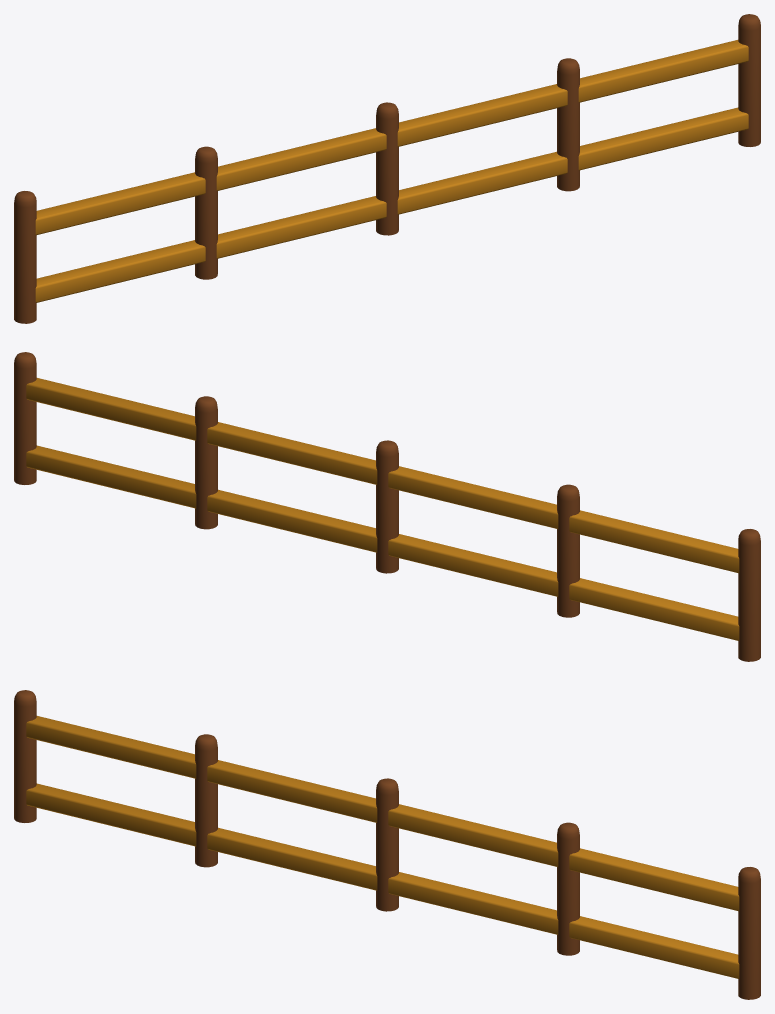
The model's file is HorseRaceWood.fbx.
The picture shows the model from 3 angles, top to bottom: view 1: azimuth 30°, elevation 25°; view 2: azimuth 150°, elevation 25°; view 3: azimuth 330°, elevation 25°; orthographic projection.
Parts seen in each view (by area): view 1: Cube.001, Cube, Cylinder, Cylinder.004, Cylinder.001, Cylinder.002, Cylinder.003; view 2: Cube.001, Cube, Cylinder, Cylinder.004, Cylinder.001, Cylinder.002, Cylinder.003; view 3: Cube.001, Cube, Cylinder.004, Cylinder, Cylinder.003, Cylinder.002, Cylinder.001.
Boxes of the visible parts, bbox=[...] form: Cube.001: bbox=[35, 107, 748, 302]; Cube: bbox=[35, 40, 748, 235]; Cylinder: bbox=[14, 191, 36, 323]; Cylinder.004: bbox=[738, 14, 760, 146]; Cylinder.001: bbox=[195, 146, 217, 279]; Cylinder.002: bbox=[376, 102, 398, 235]; Cylinder.003: bbox=[557, 58, 579, 191]; Cube.001: bbox=[26, 445, 739, 640]; Cube: bbox=[26, 378, 739, 573]; Cylinder: bbox=[738, 529, 760, 661]; Cylinder.004: bbox=[14, 352, 36, 484]; Cylinder.001: bbox=[557, 484, 579, 617]; Cylinder.002: bbox=[376, 440, 398, 573]; Cylinder.003: bbox=[195, 396, 217, 529]; Cube.001: bbox=[26, 783, 739, 978]; Cube: bbox=[26, 716, 739, 911]; Cylinder.004: bbox=[738, 867, 760, 999]; Cylinder: bbox=[14, 690, 36, 822]; Cylinder.003: bbox=[557, 822, 579, 955]; Cylinder.002: bbox=[376, 778, 398, 911]; Cylinder.001: bbox=[195, 734, 217, 867].
Bounding box in the file's own units: 3665 × 591 × 98.1.
